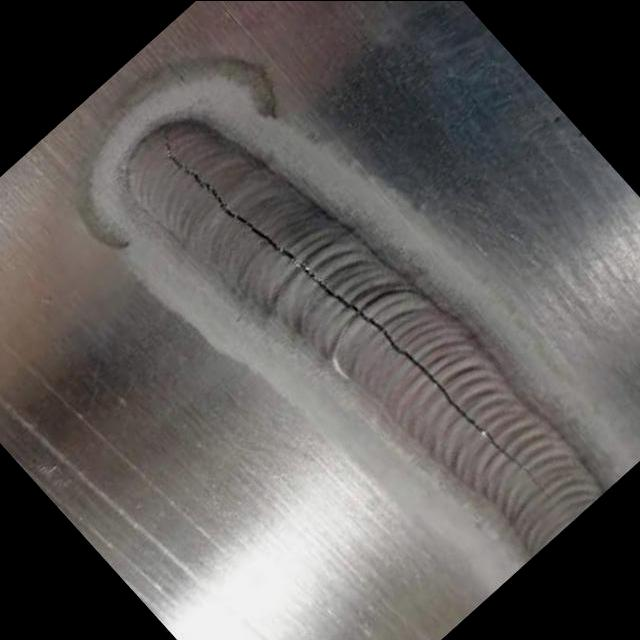defect: (160, 125, 553, 503)
